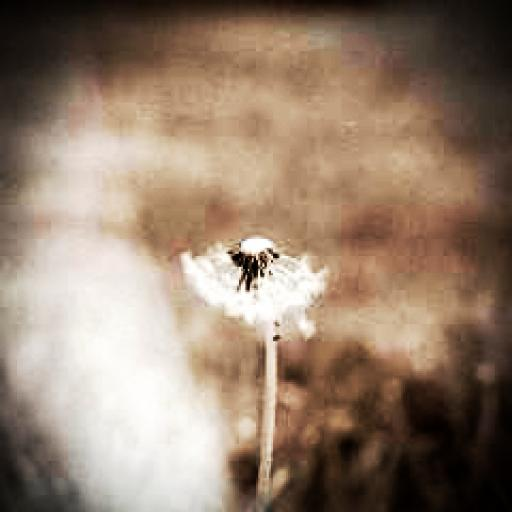dandelion: (177, 235, 331, 320)
